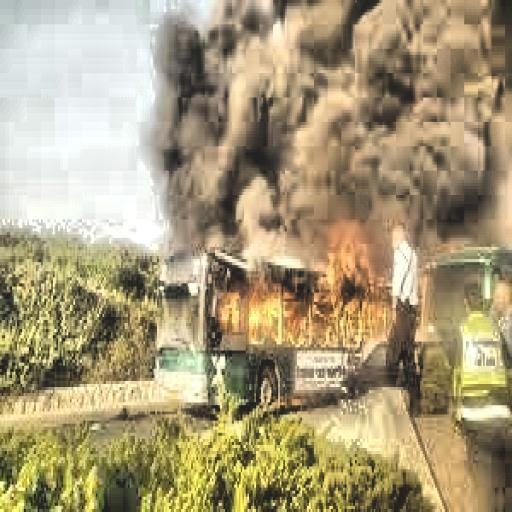fire: (206, 210, 408, 357)
